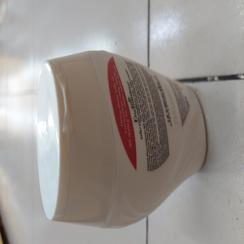enchanter: (32, 47, 208, 230)
